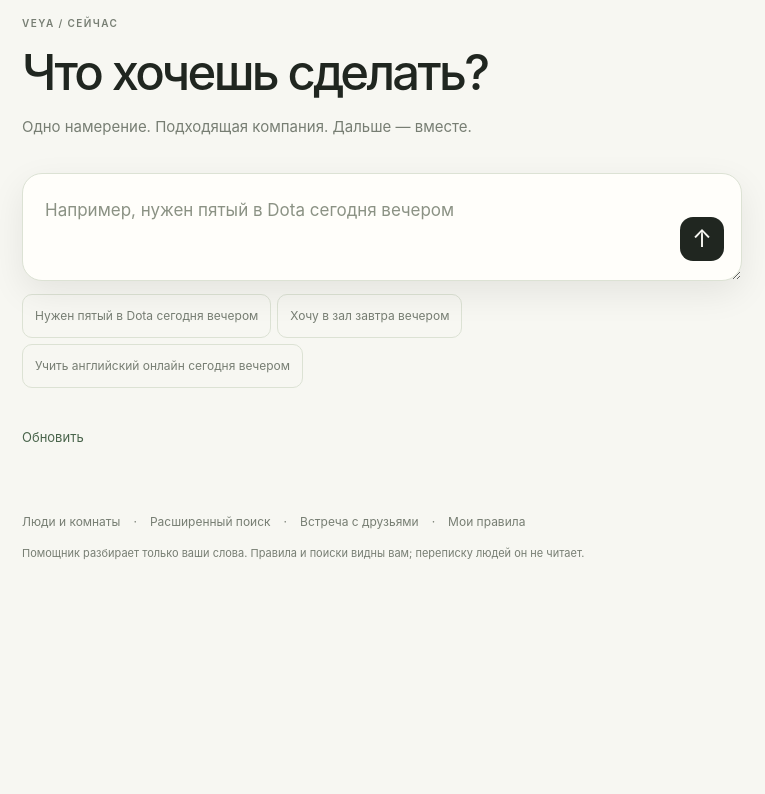
it: minimal intent product › shows a transparent preview and creates only after explicit Start
The image size is (765, 794).
Expected: the button "Обновить" is shown, [22, 416, 84, 460]
Type "Нужен пятый в Dota сегодня вечером" into the text box. click: (382, 227)
box: [23, 174, 741, 280]
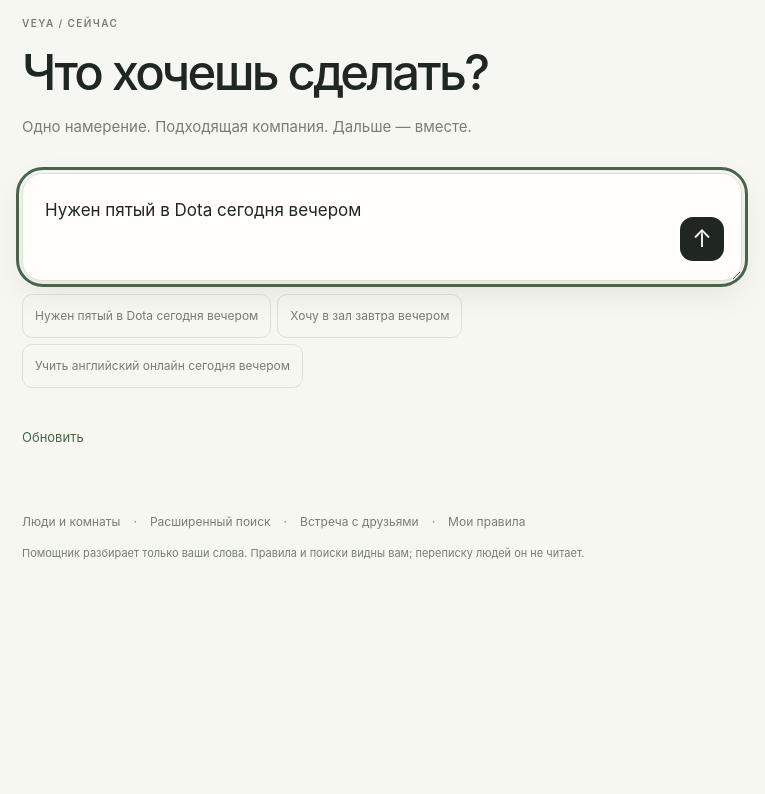
Click the button named "Разобрать намерение". click: click(702, 239)
box: [680, 217, 724, 261]
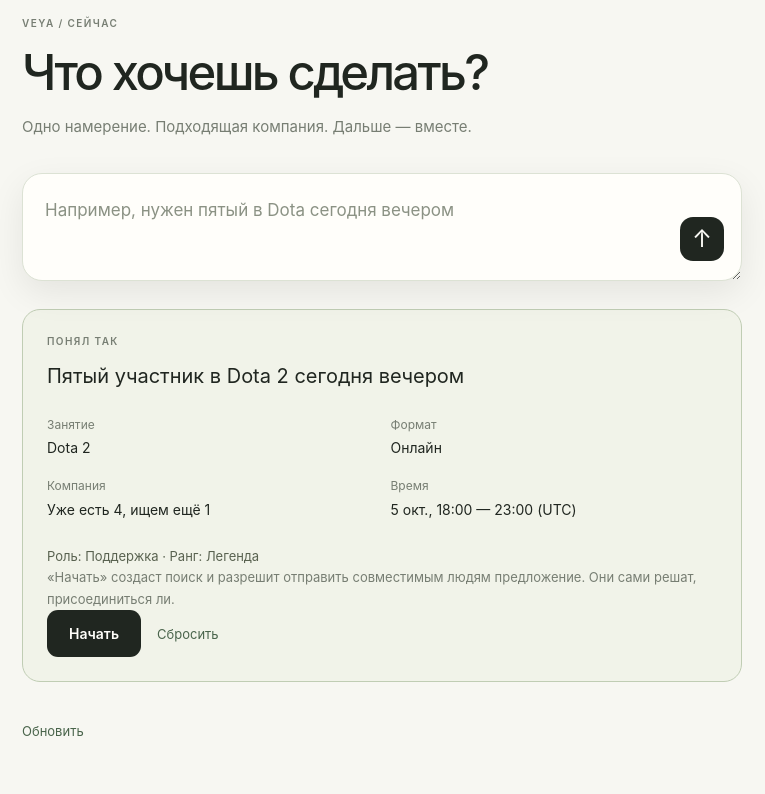
Now the button "Начать" is shown
Now the text "Уже есть 4, ищем ещё 1" is shown, box [47, 501, 210, 518]
Now the text "Роль: Поддержка · Ранг: Легенда" is shown, box [47, 548, 259, 564]
Click the button "Начать". click: click(94, 634)
box: [47, 610, 141, 657]
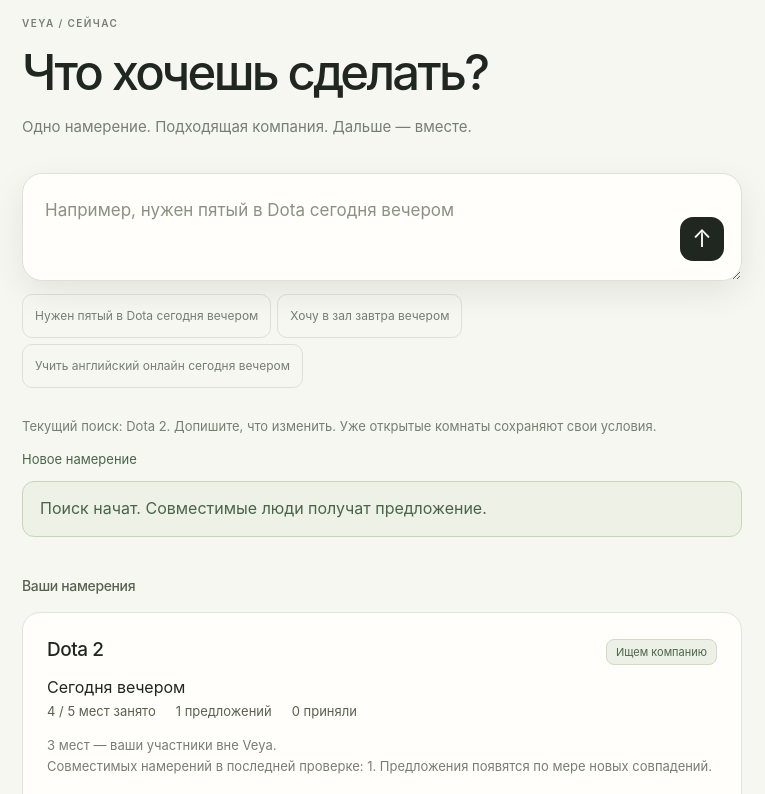
Now the text "Ищем компанию" is shown, box [606, 639, 717, 665]
Now the text "1 предложений" is shown, box [176, 701, 272, 722]
Now the text "0 приняли" is shown, box [292, 701, 357, 722]
